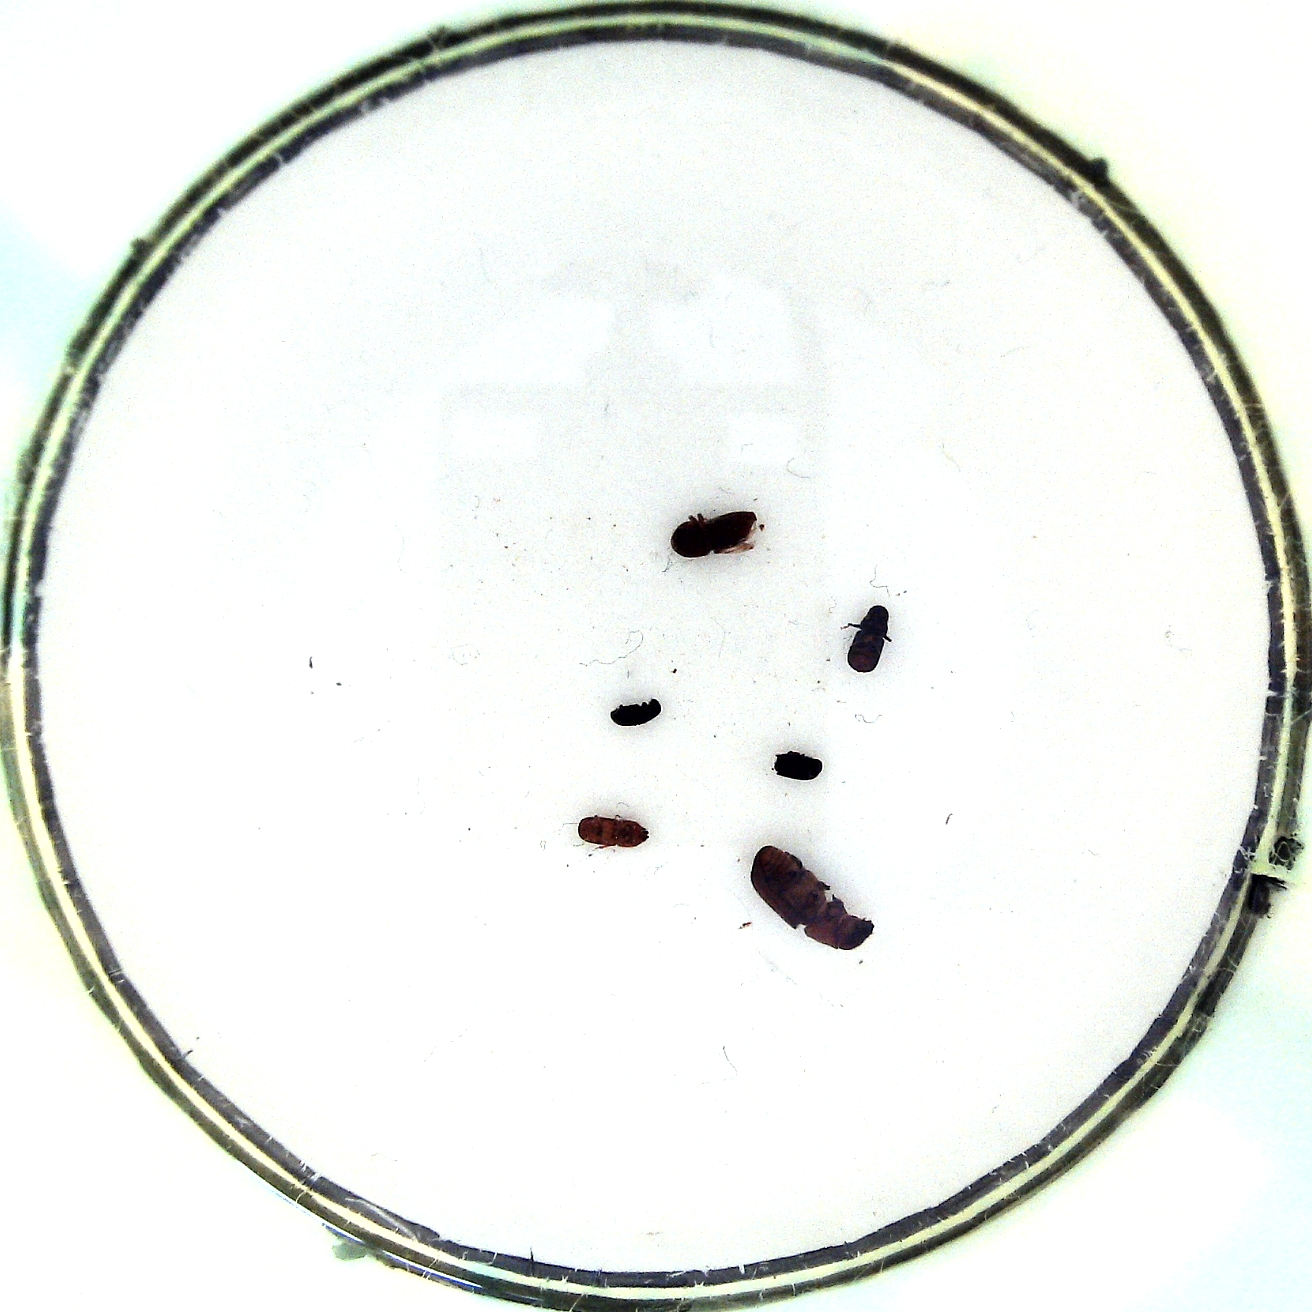Leconte: (747, 843, 878, 952)
Linnaeus: (663, 501, 763, 569)
acuminatus: (576, 813, 654, 852)
armandi: (834, 603, 893, 680)
coleoptera: (767, 743, 824, 785), (612, 693, 664, 734)
